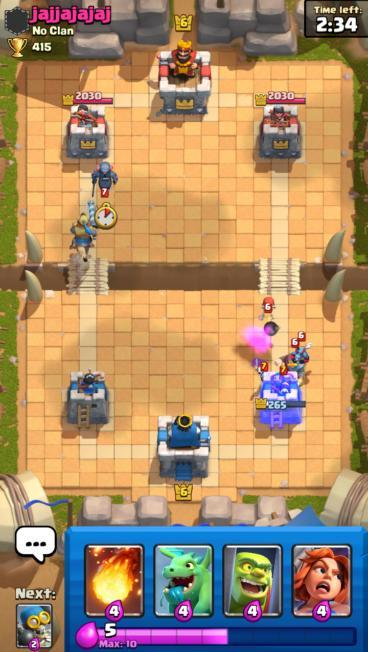ally_knight: (65, 198, 99, 264), (273, 348, 308, 384)
enemy_bomber: (256, 296, 278, 325)
enemy_mini_pekka: (89, 158, 121, 196)
enemy_minion: (290, 331, 315, 364)
enemy_skeleton: (253, 357, 272, 384), (273, 362, 291, 389)
